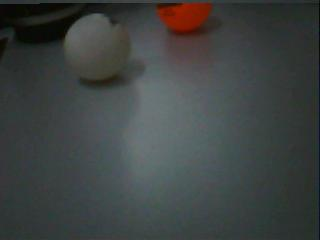oball: (156, 5, 210, 32)
